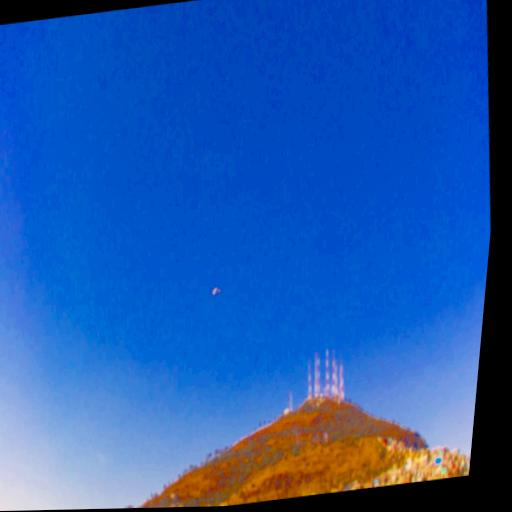drones: (209, 282, 223, 297)
